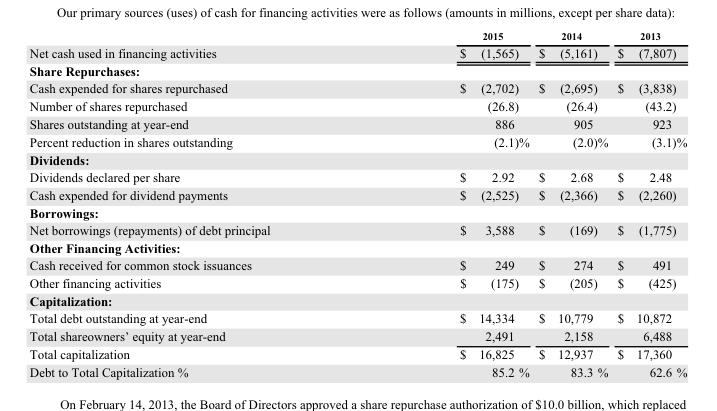table: (28, 28, 686, 379)
table column: (28, 28, 364, 379), (364, 28, 533, 379), (533, 28, 612, 379), (612, 28, 686, 379)
table column header: (28, 28, 686, 43)
table projected row header: (28, 61, 686, 78), (28, 150, 686, 167), (28, 203, 686, 220), (28, 238, 686, 255), (28, 291, 686, 308)
table row: (28, 43, 686, 61), (28, 78, 686, 96), (28, 96, 686, 114), (28, 114, 686, 132), (28, 132, 686, 150), (28, 167, 686, 185), (28, 185, 686, 203), (28, 220, 686, 238), (28, 255, 686, 273), (28, 273, 686, 291), (28, 308, 686, 326), (28, 326, 686, 344), (28, 344, 686, 362), (28, 61, 686, 78), (28, 150, 686, 167), (28, 203, 686, 220), (28, 238, 686, 255), (28, 291, 686, 308), (28, 362, 686, 379), (28, 28, 686, 43)
